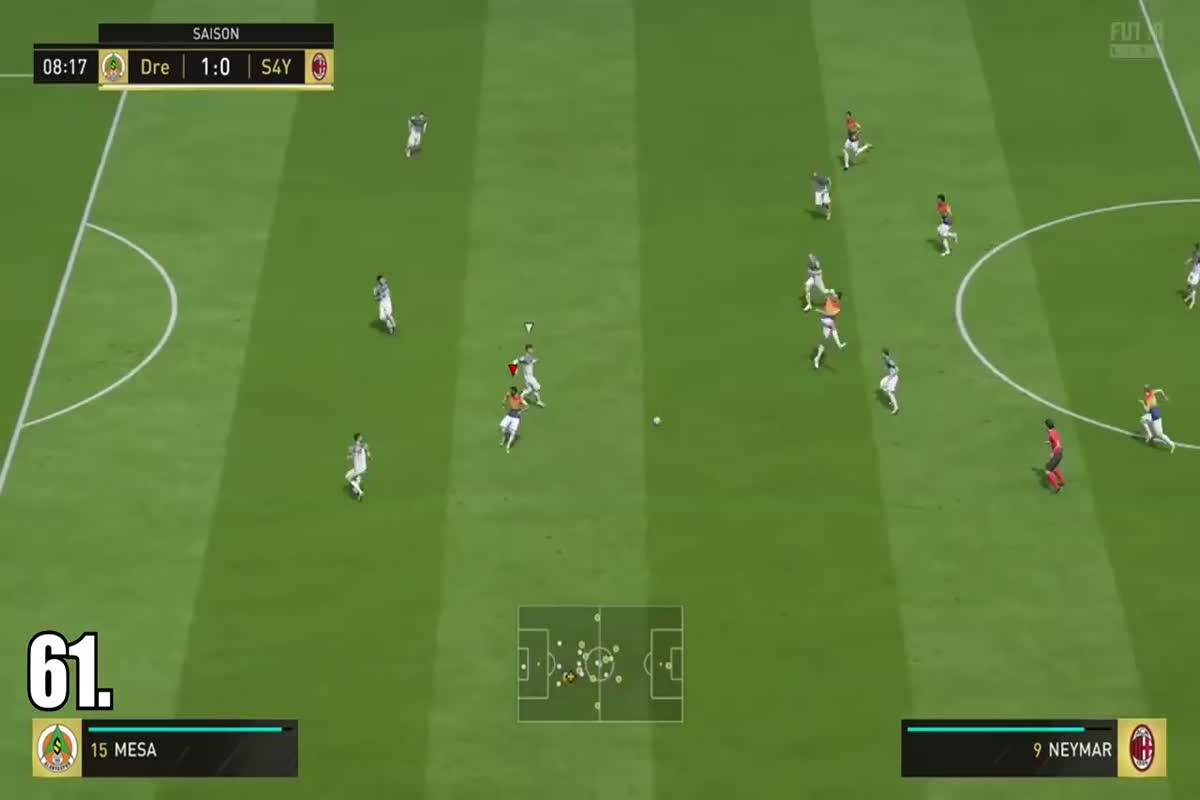ball: (647, 409, 671, 431)
